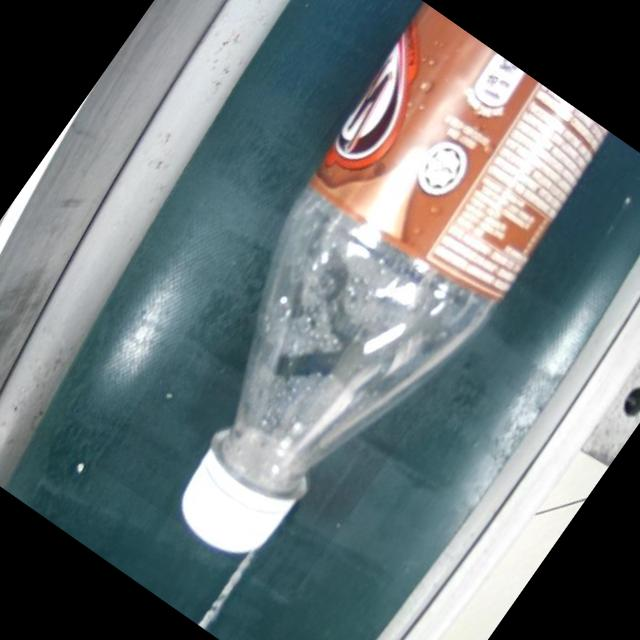BotolPlastik: (94, 2, 616, 604)
